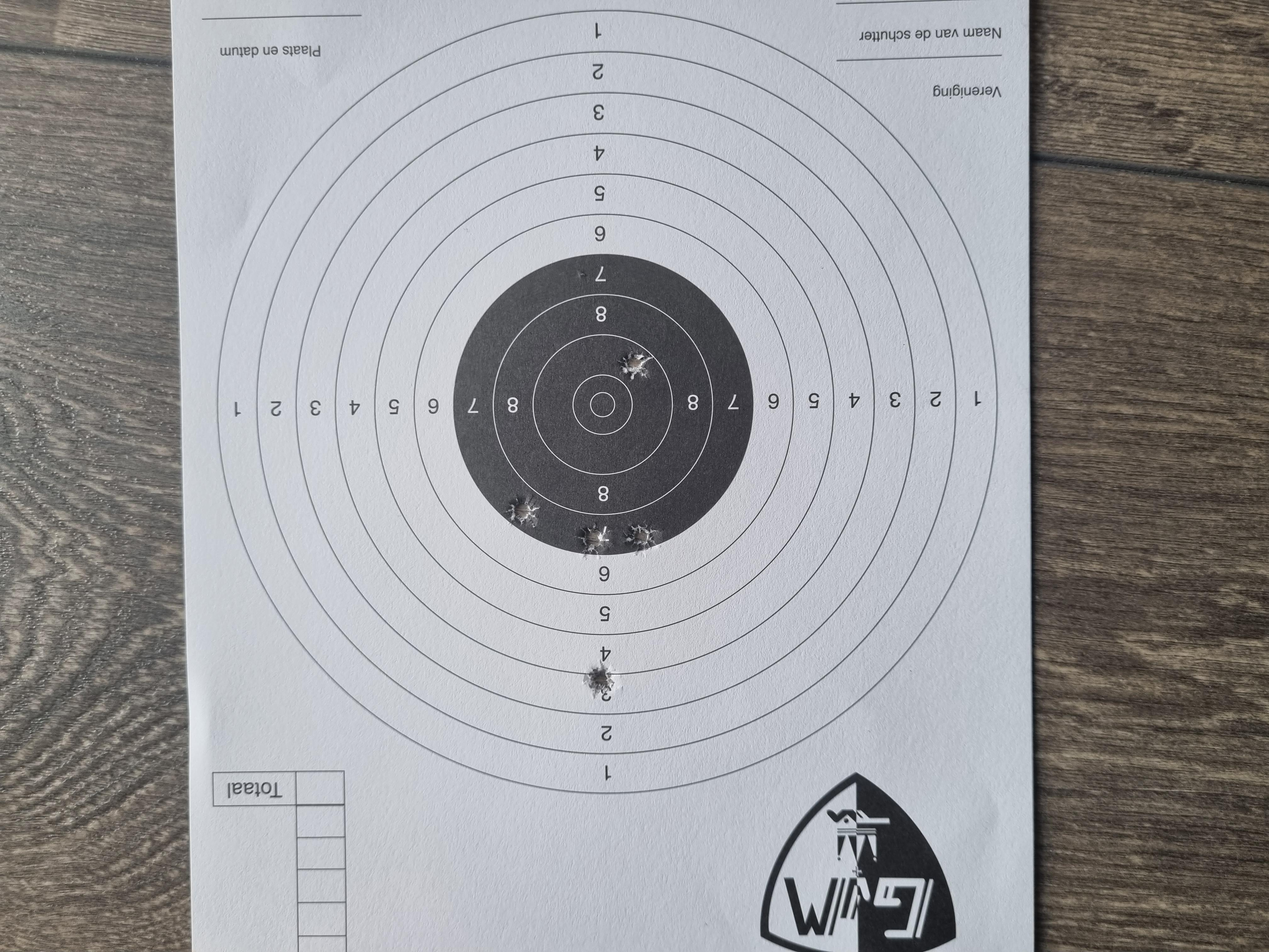hole: (527, 431, 572, 460), (760, 463, 804, 492), (530, 469, 576, 496), (337, 437, 384, 463), (563, 379, 611, 404)
